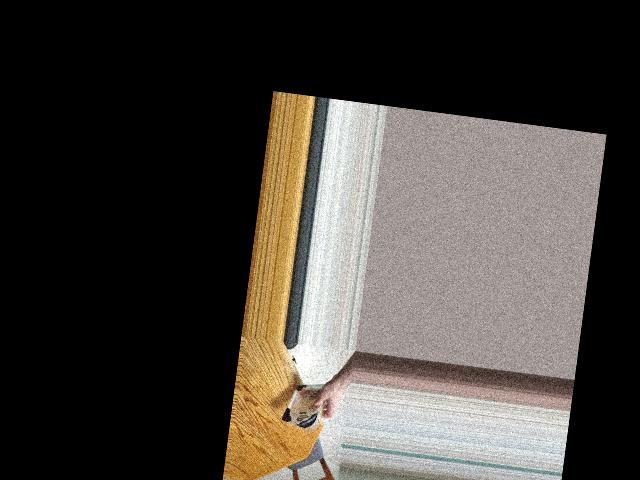cheese: (285, 377, 326, 433)
